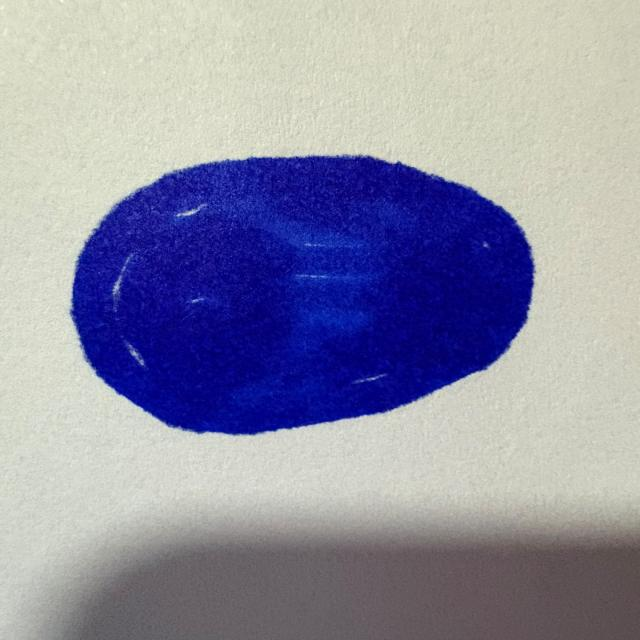Circle: (64, 151, 541, 441)
